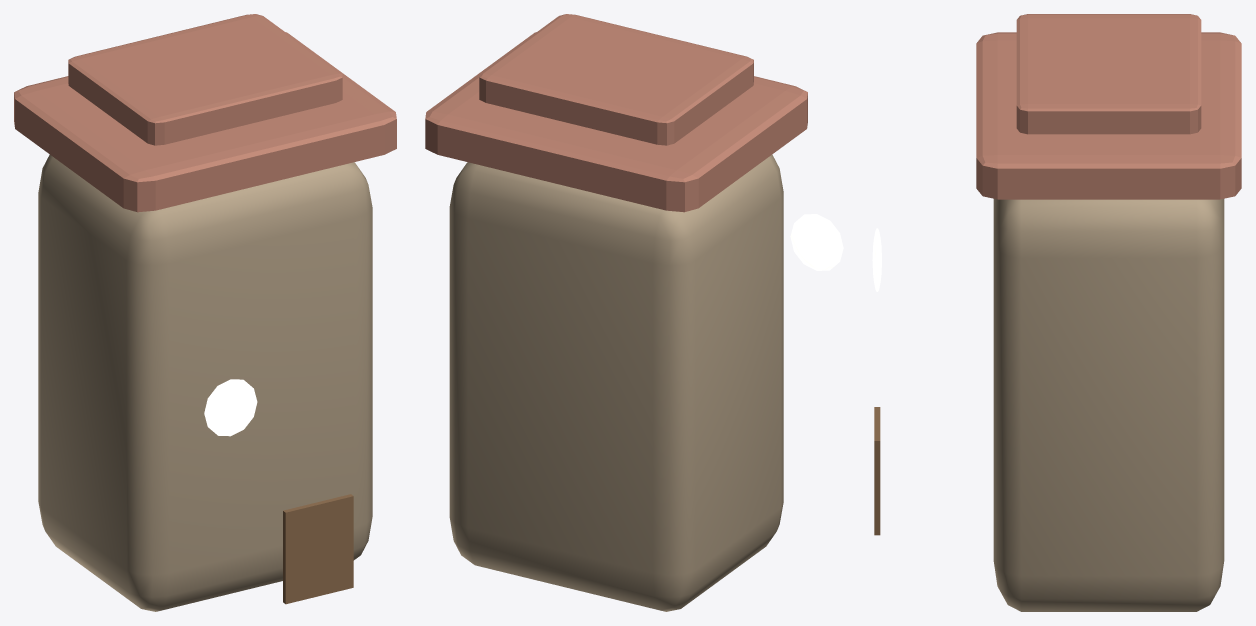
File: workshop_01.glb
The picture shows the model from 3 angles, left to right: view 1: azimuth 30°, elevation 25°; view 2: azimuth 150°, elevation 25°; view 3: azimuth 270°, elevation 25°; orthographic projection. The views are drawn at different scales.
Visible parts, largest first — view 1: WorkshopBody, WorkshopRoof, WorkshopPeak, Door, Win_-0.9; view 2: WorkshopBody, WorkshopRoof, WorkshopPeak, Win_-0.9; view 3: WorkshopBody, WorkshopRoof, WorkshopPeak, Door, Win_-0.9.
Boxes of the visible parts, x1=… form: WorkshopBody: x1=38, y1=154, x2=372, y2=611; WorkshopRoof: x1=14, y1=32, x2=396, y2=212; WorkshopPeak: x1=68, y1=14, x2=342, y2=145; Door: x1=283, y1=494, x2=353, y2=604; Win_-0.9: x1=204, y1=379, x2=257, y2=436; WorkshopBody: x1=449, y1=154, x2=783, y2=611; WorkshopRoof: x1=425, y1=32, x2=807, y2=212; WorkshopPeak: x1=479, y1=14, x2=753, y2=145; Win_-0.9: x1=790, y1=214, x2=843, y2=270; WorkshopBody: x1=993, y1=199, x2=1224, y2=611; WorkshopRoof: x1=976, y1=32, x2=1241, y2=199; WorkshopPeak: x1=1016, y1=14, x2=1201, y2=134; Door: x1=874, y1=407, x2=880, y2=535; Win_-0.9: x1=872, y1=228, x2=881, y2=291.
Bounding box in the file's own units: 2.8 × 4.82 × 3.2.
